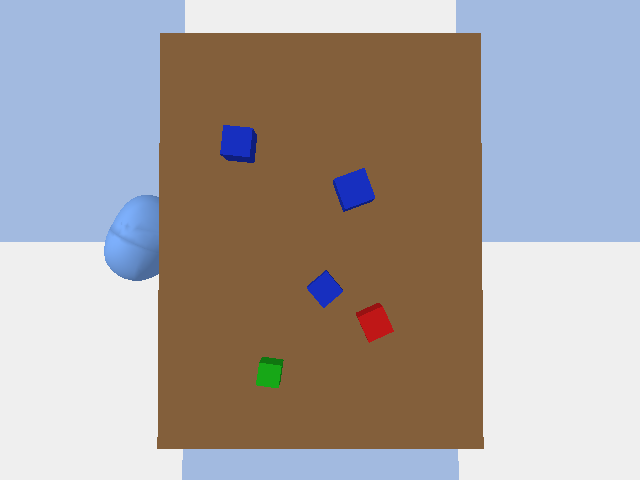blue_obj: (333, 168, 374, 211), (220, 125, 256, 162), (307, 270, 342, 307)
green_obj: (256, 357, 283, 387)
red_obj: (356, 303, 393, 342)
